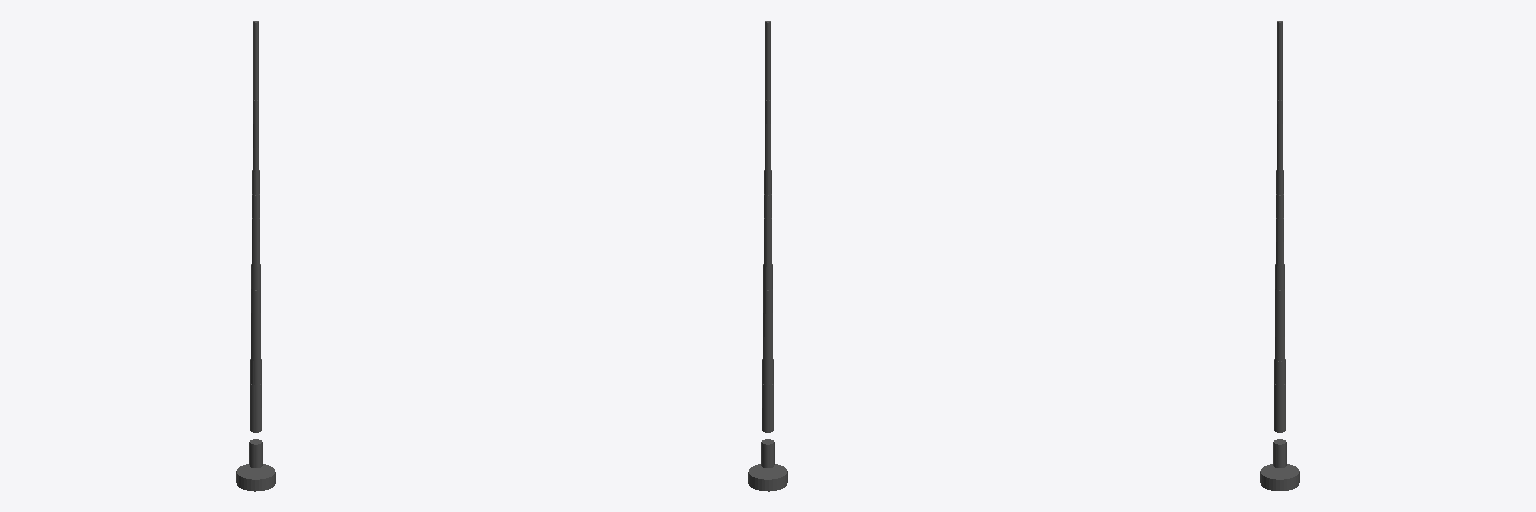
URDF robot description (simple_arm_20dof):
<?xml version="1.0"?>
<!--
  Synthetic 20-DOF serial arm for benchmarking (double the 10-DOF chain,
  added to extend the regression data range for the fixed-cost vs
  per-joint-cost model). Same parser constraints as arm_10dof.urdf.
-->
<robot name="simple_arm_20dof">

  <material name="grey">
    <color rgba="0.4 0.4 0.4 1.0"/>
  </material>

  <!-- ===== LINKS: base_link + link_1..link_20 ===== -->
  <link name="base_link">
    <visual>
      <origin xyz="0 0 0" rpy="0 0 0"/>
      <geometry><cylinder radius="0.15" length="0.1"/></geometry>
      <material name="grey"/>
    </visual>
  </link>
  <link name="link_1">
    <visual><origin xyz="0 0 0.1" rpy="0 0 0"/><geometry><cylinder radius="0.050" length="0.2"/></geometry><material name="grey"/></visual>
  </link>
  <link name="link_2">
    <visual><origin xyz="0 0 0.2" rpy="0 0 0"/><geometry><cylinder radius="0.048" length="0.2"/></geometry><material name="grey"/></visual>
  </link>
  <link name="link_3">
    <visual><origin xyz="0 0 0.2" rpy="0 0 0"/><geometry><cylinder radius="0.046" length="0.2"/></geometry><material name="grey"/></visual>
  </link>
  <link name="link_4">
    <visual><origin xyz="0 0 0.2" rpy="0 0 0"/><geometry><cylinder radius="0.044" length="0.2"/></geometry><material name="grey"/></visual>
  </link>
  <link name="link_5">
    <visual><origin xyz="0 0 0.2" rpy="0 0 0"/><geometry><cylinder radius="0.042" length="0.2"/></geometry><material name="grey"/></visual>
  </link>
  <link name="link_6">
    <visual><origin xyz="0 0 0.2" rpy="0 0 0"/><geometry><cylinder radius="0.040" length="0.2"/></geometry><material name="grey"/></visual>
  </link>
  <link name="link_7">
    <visual><origin xyz="0 0 0.2" rpy="0 0 0"/><geometry><cylinder radius="0.038" length="0.2"/></geometry><material name="grey"/></visual>
  </link>
  <link name="link_8">
    <visual><origin xyz="0 0 0.2" rpy="0 0 0"/><geometry><cylinder radius="0.036" length="0.2"/></geometry><material name="grey"/></visual>
  </link>
  <link name="link_9">
    <visual><origin xyz="0 0 0.2" rpy="0 0 0"/><geometry><cylinder radius="0.034" length="0.2"/></geometry><material name="grey"/></visual>
  </link>
  <link name="link_10">
    <visual><origin xyz="0 0 0.2" rpy="0 0 0"/><geometry><cylinder radius="0.032" length="0.2"/></geometry><material name="grey"/></visual>
  </link>
  <link name="link_11">
    <visual><origin xyz="0 0 0.2" rpy="0 0 0"/><geometry><cylinder radius="0.030" length="0.2"/></geometry><material name="grey"/></visual>
  </link>
  <link name="link_12">
    <visual><origin xyz="0 0 0.2" rpy="0 0 0"/><geometry><cylinder radius="0.028" length="0.2"/></geometry><material name="grey"/></visual>
  </link>
  <link name="link_13">
    <visual><origin xyz="0 0 0.2" rpy="0 0 0"/><geometry><cylinder radius="0.026" length="0.2"/></geometry><material name="grey"/></visual>
  </link>
  <link name="link_14">
    <visual><origin xyz="0 0 0.2" rpy="0 0 0"/><geometry><cylinder radius="0.024" length="0.2"/></geometry><material name="grey"/></visual>
  </link>
  <link name="link_15">
    <visual><origin xyz="0 0 0.2" rpy="0 0 0"/><geometry><cylinder radius="0.022" length="0.2"/></geometry><material name="grey"/></visual>
  </link>
  <link name="link_16">
    <visual><origin xyz="0 0 0.2" rpy="0 0 0"/><geometry><cylinder radius="0.020" length="0.2"/></geometry><material name="grey"/></visual>
  </link>
  <link name="link_17">
    <visual><origin xyz="0 0 0.2" rpy="0 0 0"/><geometry><cylinder radius="0.020" length="0.2"/></geometry><material name="grey"/></visual>
  </link>
  <link name="link_18">
    <visual><origin xyz="0 0 0.2" rpy="0 0 0"/><geometry><cylinder radius="0.020" length="0.2"/></geometry><material name="grey"/></visual>
  </link>
  <link name="link_19">
    <visual><origin xyz="0 0 0.06" rpy="0 0 0"/><geometry><cylinder radius="0.020" length="0.12"/></geometry><material name="grey"/></visual>
  </link>
  <link name="link_20">
    <visual><origin xyz="0 0 0.04" rpy="0 0 0"/><geometry><cylinder radius="0.020" length="0.08"/></geometry><material name="grey"/></visual>
  </link>

  <!-- ===== JOINTS: joint_i connects link_{i-1} -> link_i; axes cycle z,y,x ===== -->
  <joint name="joint_1" type="revolute">
    <parent link="base_link"/><child link="link_1"/>
    <origin xyz="0 0 0.1" rpy="0 0 0"/><axis xyz="0 0 1"/>
    <limit lower="-2.9" upper="2.9" effort="100.0" velocity="1.0"/>
  </joint>
  <joint name="joint_2" type="revolute">
    <parent link="link_1"/><child link="link_2"/>
    <origin xyz="0 0 0.2" rpy="0 0 0"/><axis xyz="0 1 0"/>
    <limit lower="-2.0" upper="2.0" effort="100.0" velocity="1.0"/>
  </joint>
  <joint name="joint_3" type="revolute">
    <parent link="link_2"/><child link="link_3"/>
    <origin xyz="0 0 0.2" rpy="0 0 0"/><axis xyz="1 0 0"/>
    <limit lower="-2.5" upper="2.5" effort="100.0" velocity="1.0"/>
  </joint>
  <joint name="joint_4" type="revolute">
    <parent link="link_3"/><child link="link_4"/>
    <origin xyz="0 0 0.2" rpy="0 0 0"/><axis xyz="0 0 1"/>
    <limit lower="-2.9" upper="2.9" effort="100.0" velocity="1.0"/>
  </joint>
  <joint name="joint_5" type="revolute">
    <parent link="link_4"/><child link="link_5"/>
    <origin xyz="0 0 0.2" rpy="0 0 0"/><axis xyz="0 1 0"/>
    <limit lower="-2.0" upper="2.0" effort="100.0" velocity="1.0"/>
  </joint>
  <joint name="joint_6" type="revolute">
    <parent link="link_5"/><child link="link_6"/>
    <origin xyz="0 0 0.2" rpy="0 0 0"/><axis xyz="1 0 0"/>
    <limit lower="-2.5" upper="2.5" effort="100.0" velocity="1.0"/>
  </joint>
  <joint name="joint_7" type="revolute">
    <parent link="link_6"/><child link="link_7"/>
    <origin xyz="0 0 0.2" rpy="0 0 0"/><axis xyz="0 0 1"/>
    <limit lower="-2.9" upper="2.9" effort="100.0" velocity="1.0"/>
  </joint>
  <joint name="joint_8" type="revolute">
    <parent link="link_7"/><child link="link_8"/>
    <origin xyz="0 0 0.2" rpy="0 0 0"/><axis xyz="0 1 0"/>
    <limit lower="-2.0" upper="2.0" effort="100.0" velocity="1.0"/>
  </joint>
  <joint name="joint_9" type="revolute">
    <parent link="link_8"/><child link="link_9"/>
    <origin xyz="0 0 0.2" rpy="0 0 0"/><axis xyz="1 0 0"/>
    <limit lower="-2.5" upper="2.5" effort="100.0" velocity="1.0"/>
  </joint>
  <joint name="joint_10" type="revolute">
    <parent link="link_9"/><child link="link_10"/>
    <origin xyz="0 0 0.2" rpy="0 0 0"/><axis xyz="0 0 1"/>
    <limit lower="-2.9" upper="2.9" effort="100.0" velocity="1.0"/>
  </joint>
  <joint name="joint_11" type="revolute">
    <parent link="link_10"/><child link="link_11"/>
    <origin xyz="0 0 0.2" rpy="0 0 0"/><axis xyz="0 1 0"/>
    <limit lower="-2.0" upper="2.0" effort="100.0" velocity="1.0"/>
  </joint>
  <joint name="joint_12" type="revolute">
    <parent link="link_11"/><child link="link_12"/>
    <origin xyz="0 0 0.2" rpy="0 0 0"/><axis xyz="1 0 0"/>
    <limit lower="-2.5" upper="2.5" effort="100.0" velocity="1.0"/>
  </joint>
  <joint name="joint_13" type="revolute">
    <parent link="link_12"/><child link="link_13"/>
    <origin xyz="0 0 0.2" rpy="0 0 0"/><axis xyz="0 0 1"/>
    <limit lower="-2.9" upper="2.9" effort="100.0" velocity="1.0"/>
  </joint>
  <joint name="joint_14" type="revolute">
    <parent link="link_13"/><child link="link_14"/>
    <origin xyz="0 0 0.2" rpy="0 0 0"/><axis xyz="0 1 0"/>
    <limit lower="-2.0" upper="2.0" effort="100.0" velocity="1.0"/>
  </joint>
  <joint name="joint_15" type="revolute">
    <parent link="link_14"/><child link="link_15"/>
    <origin xyz="0 0 0.2" rpy="0 0 0"/><axis xyz="1 0 0"/>
    <limit lower="-2.5" upper="2.5" effort="100.0" velocity="1.0"/>
  </joint>
  <joint name="joint_16" type="revolute">
    <parent link="link_15"/><child link="link_16"/>
    <origin xyz="0 0 0.2" rpy="0 0 0"/><axis xyz="0 0 1"/>
    <limit lower="-2.9" upper="2.9" effort="100.0" velocity="1.0"/>
  </joint>
  <joint name="joint_17" type="revolute">
    <parent link="link_16"/><child link="link_17"/>
    <origin xyz="0 0 0.2" rpy="0 0 0"/><axis xyz="0 1 0"/>
    <limit lower="-2.0" upper="2.0" effort="100.0" velocity="1.0"/>
  </joint>
  <joint name="joint_18" type="revolute">
    <parent link="link_17"/><child link="link_18"/>
    <origin xyz="0 0 0.2" rpy="0 0 0"/><axis xyz="1 0 0"/>
    <limit lower="-2.5" upper="2.5" effort="100.0" velocity="1.0"/>
  </joint>
  <joint name="joint_19" type="revolute">
    <parent link="link_18"/><child link="link_19"/>
    <origin xyz="0 0 0.16" rpy="0 0 0"/><axis xyz="0 0 1"/>
    <limit lower="-2.9" upper="2.9" effort="100.0" velocity="1.0"/>
  </joint>
  <joint name="joint_20" type="revolute">
    <parent link="link_19"/><child link="link_20"/>
    <origin xyz="0 0 0.12" rpy="0 0 0"/><axis xyz="0 1 0"/>
    <limit lower="-2.0" upper="2.0" effort="100.0" velocity="1.0"/>
  </joint>

</robot>

--- What the picture shows (computed from the rendered views, not written in the file) ---
3 views of the same robot in one strip: view 1: azimuth 30°, elevation 25°; view 2: azimuth 150°, elevation 25°; view 3: azimuth 270°, elevation 25° (orthographic).
Model simple_arm_20dof with 21 links and 20 joints (20 revolute), rooted at base_link, posed all joints at 0.
Visible links, largest first — view 1: base_link; view 2: base_link; view 3: base_link.
Boxes of the visible links, bbox=[...] form: base_link: bbox=[236, 464, 275, 491]; base_link: bbox=[748, 464, 787, 491]; base_link: bbox=[1260, 464, 1299, 490].
Size in the robot's own frame: 0.3 by 0.3 by 3.91 metres.
Geometry: primitives only (box / cylinder / sphere), no mesh files.
